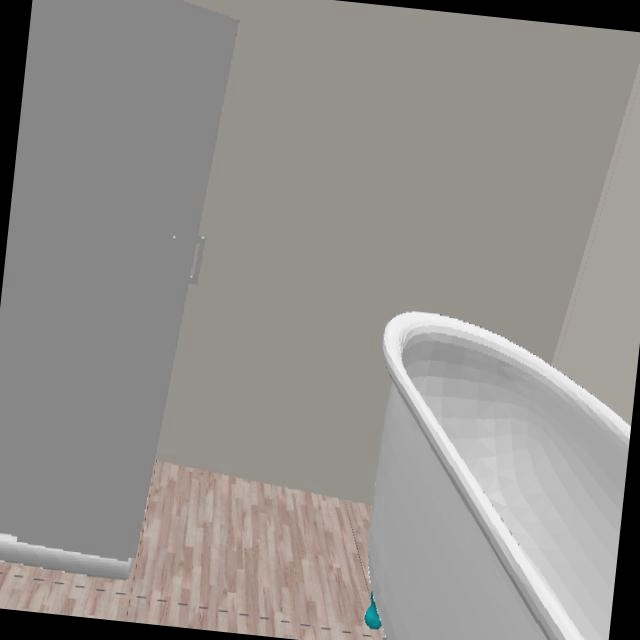bathtube: (367, 311, 631, 640)
